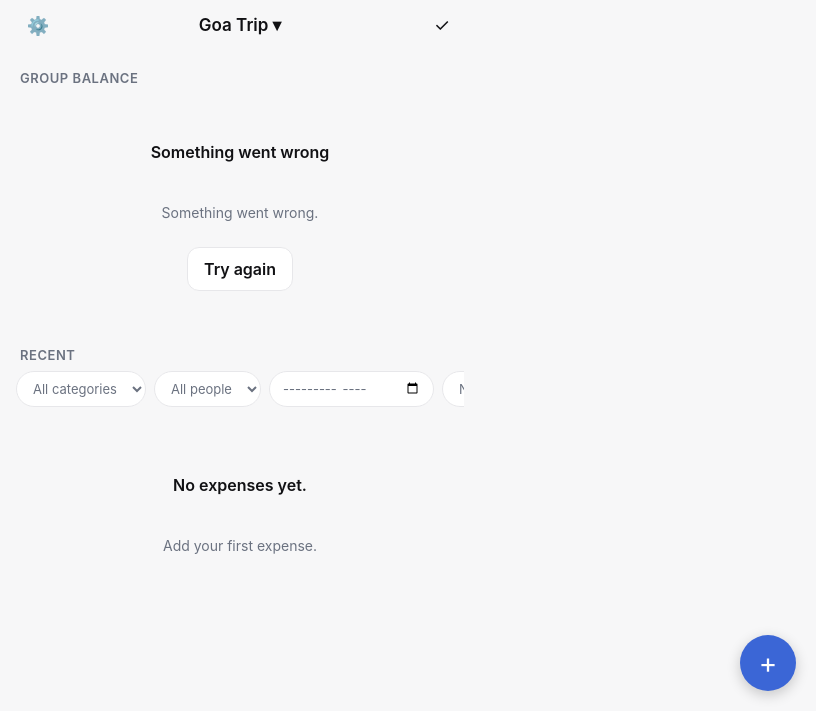
Test: HomeScreen › shows an error state with retry when balances fail to load
expect the text "Something went wrong" is shown: met, box x1=151 y1=142 x2=329 y2=162
Click the button "Try again" at (240, 269), box x1=187 y1=247 x2=293 y2=291
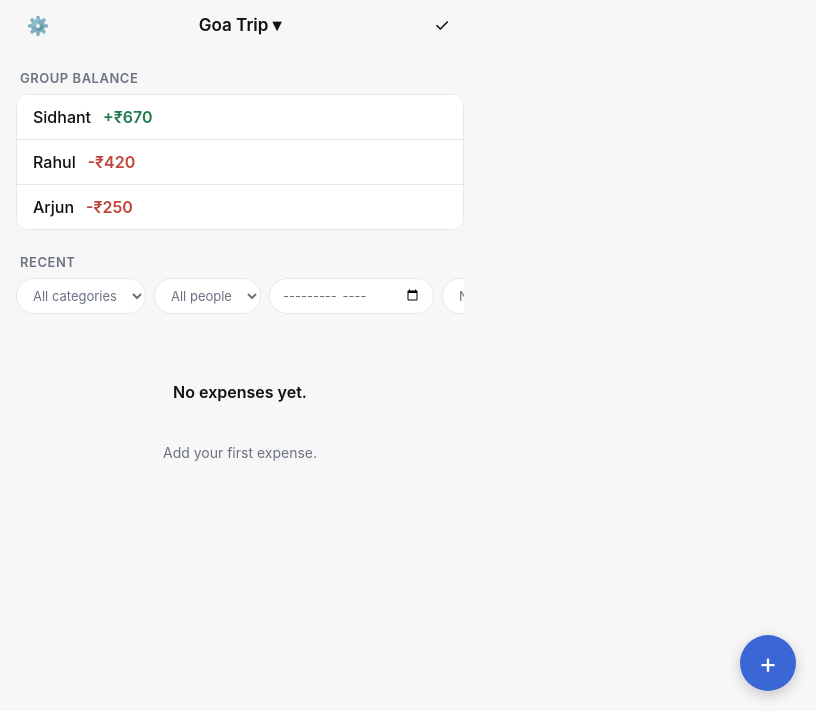
expect the text "+₹670" is shown: met, box x1=103 y1=107 x2=152 y2=127
